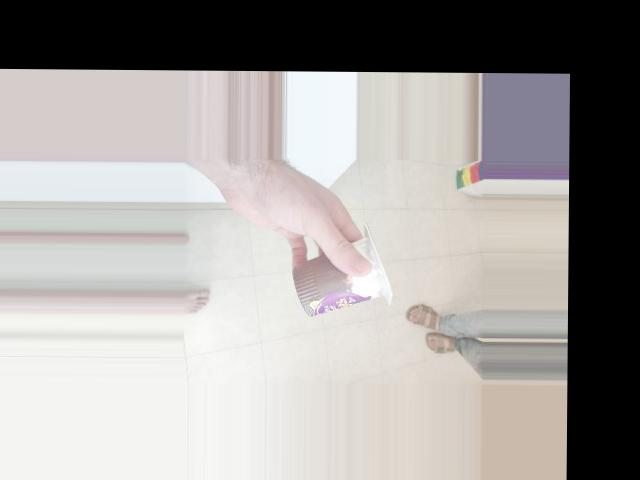milky: (290, 233, 398, 320)
